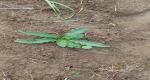osot: (13, 27, 112, 49)
